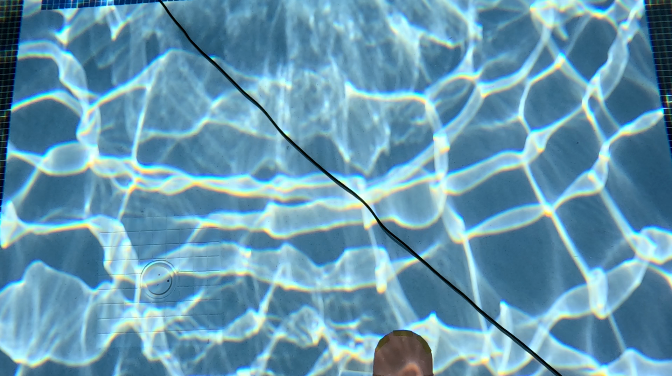pathmarker: (372, 330, 433, 375)
